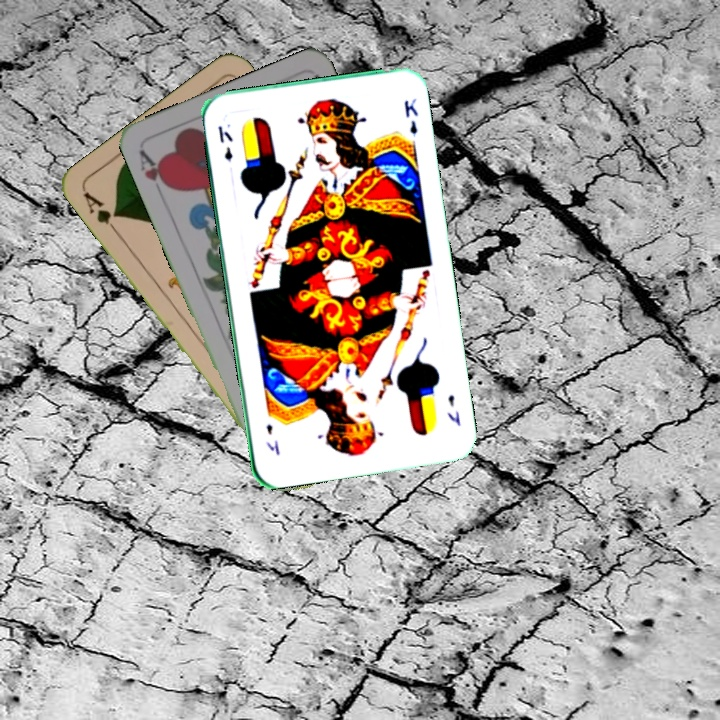EK: (213, 122, 236, 164), (443, 390, 463, 429)
GA: (79, 188, 122, 237)
HA: (135, 145, 175, 201)
